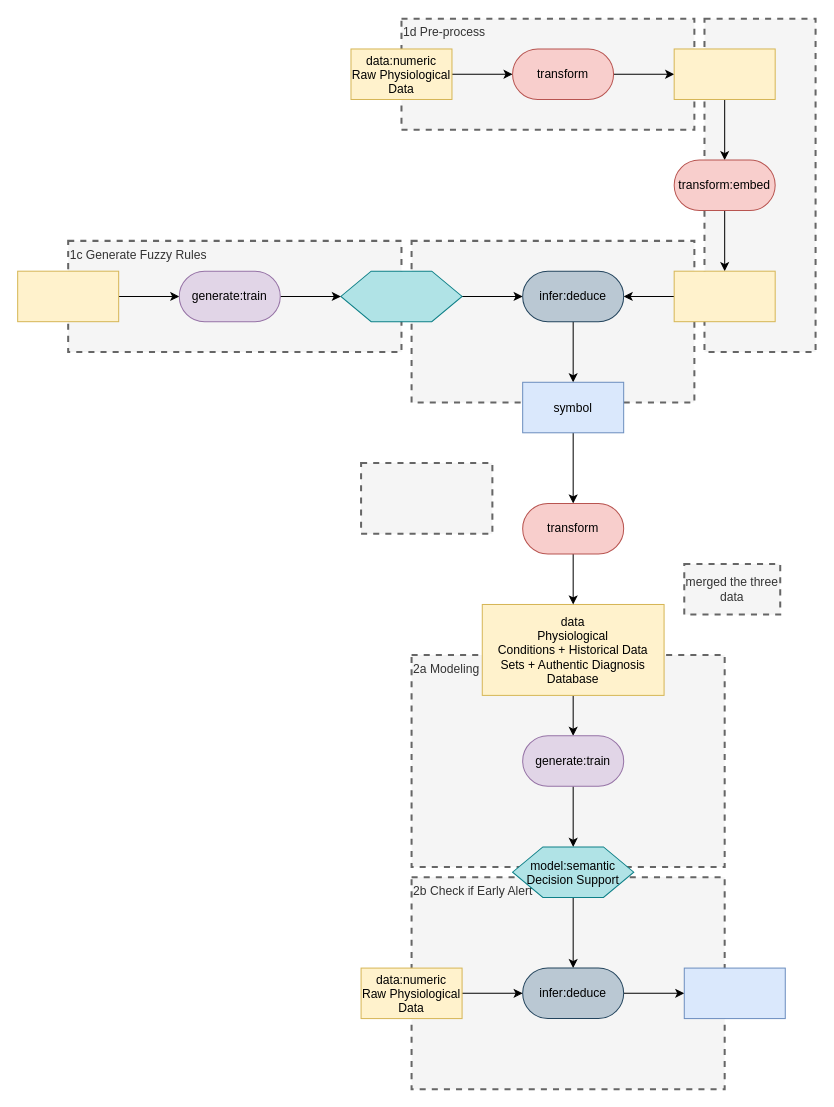
Some shapes in this 834 by 1107 pixel diagram are drawn without their labels. Each missing label, with the box of its shape:
1d FCM and FKM: (703, 17, 816, 352)
1d Self-organizing Fuzzy Logic Modeling: (410, 239, 695, 403)
data Knowledge + Guidelines: (17, 270, 119, 322)
data:numeric Clean Physiological Data: (673, 48, 775, 99)
data:numeric Clustered Physiological Data: (673, 270, 775, 322)
model:semantic Fuzzy Rules: (340, 270, 462, 322)
replaced transform with infer:deduce and added symbol and transform: (360, 462, 493, 534)
symbol Early Alert: (683, 967, 785, 1019)
